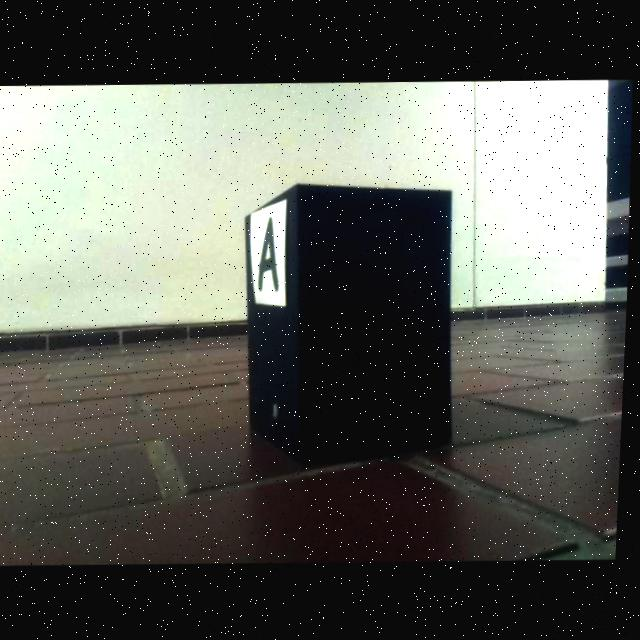A: (260, 215, 282, 291)
